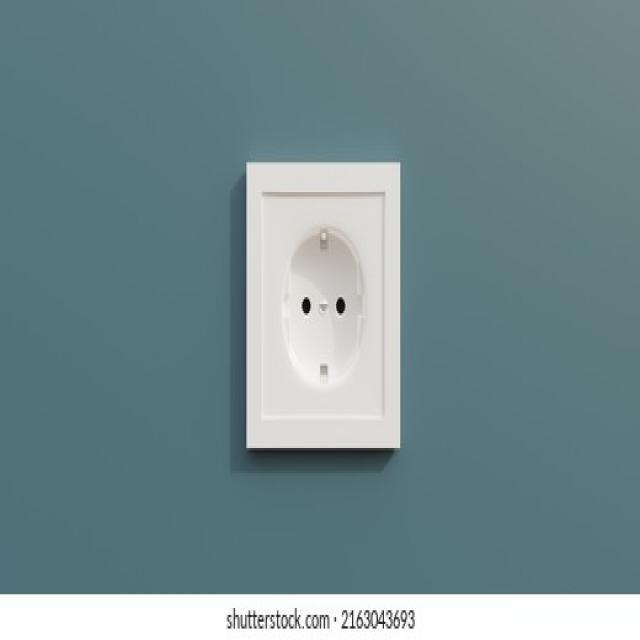typeb: (238, 126, 423, 497)
